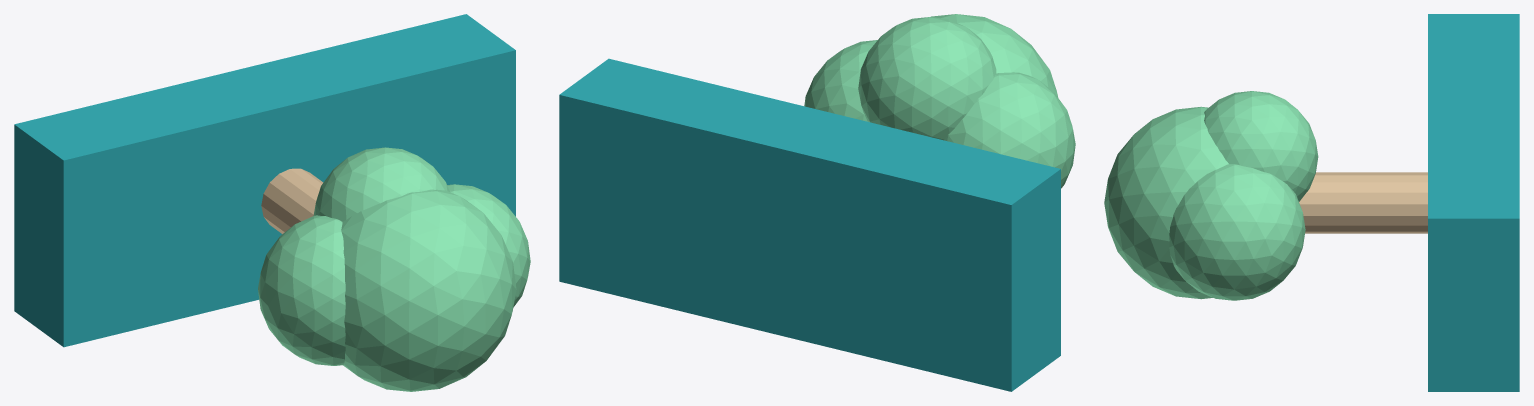
Rendered from planter-bed-tree.glb.
The picture shows the model from 3 angles, left to right: view 1: azimuth 30°, elevation 25°; view 2: azimuth 150°, elevation 25°; view 3: azimuth 270°, elevation 25°; orthographic projection. The views are drawn at different scales.
Visible parts, largest first — view 1: world; view 2: world; view 3: world.
Boxes of the visible parts, bbox=[...] form: world: bbox=[14, 14, 530, 391]; world: bbox=[559, 14, 1075, 391]; world: bbox=[1104, 14, 1519, 391].
Size of the model in its own units: 1.9 by 0.84 by 1.63.
